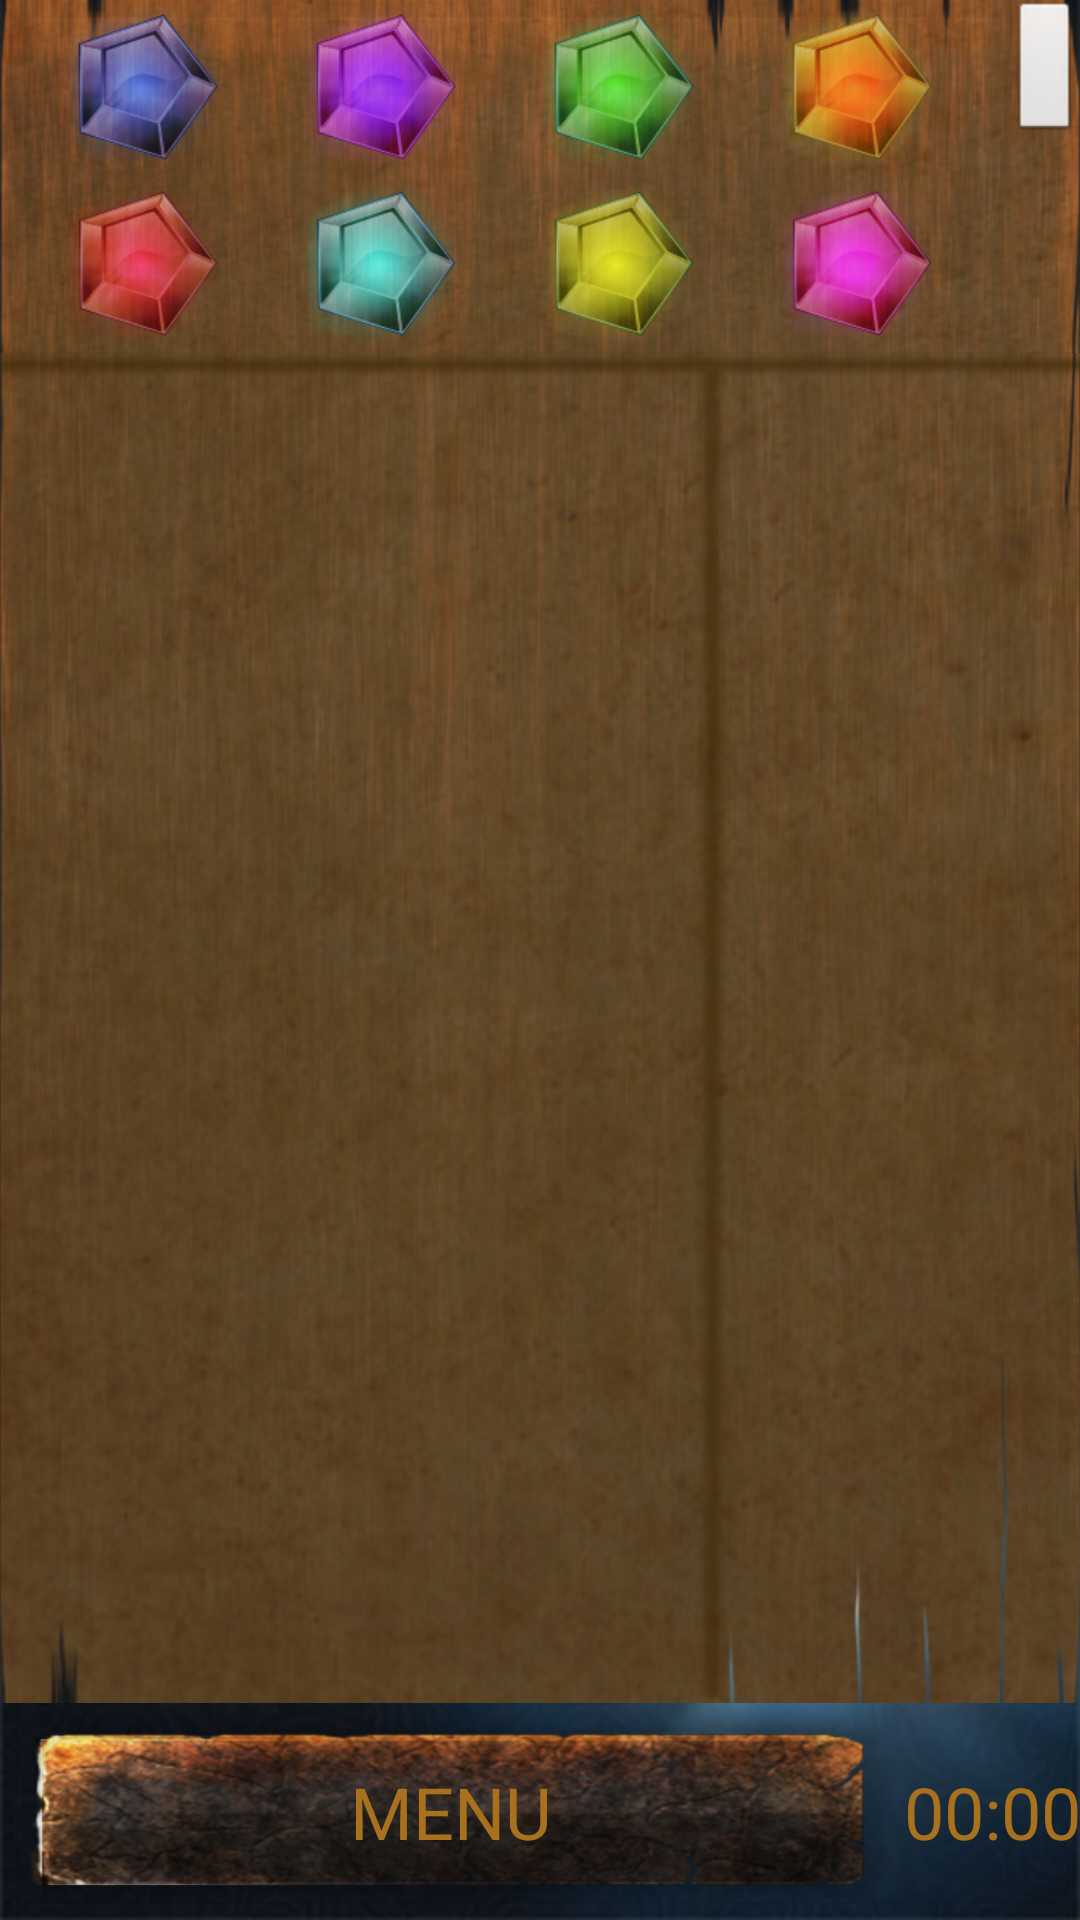

Named icons in this screenshot (1080x1920) and their centers, [x,y]:
Bleu: [148,88]
Ciant: [392,256]
Jaune: [613,261]
Orange: [862,88]
Rose: [868,256]
Rouge: [155,256]
Vert: [624,88]
Violet: [387,88]
